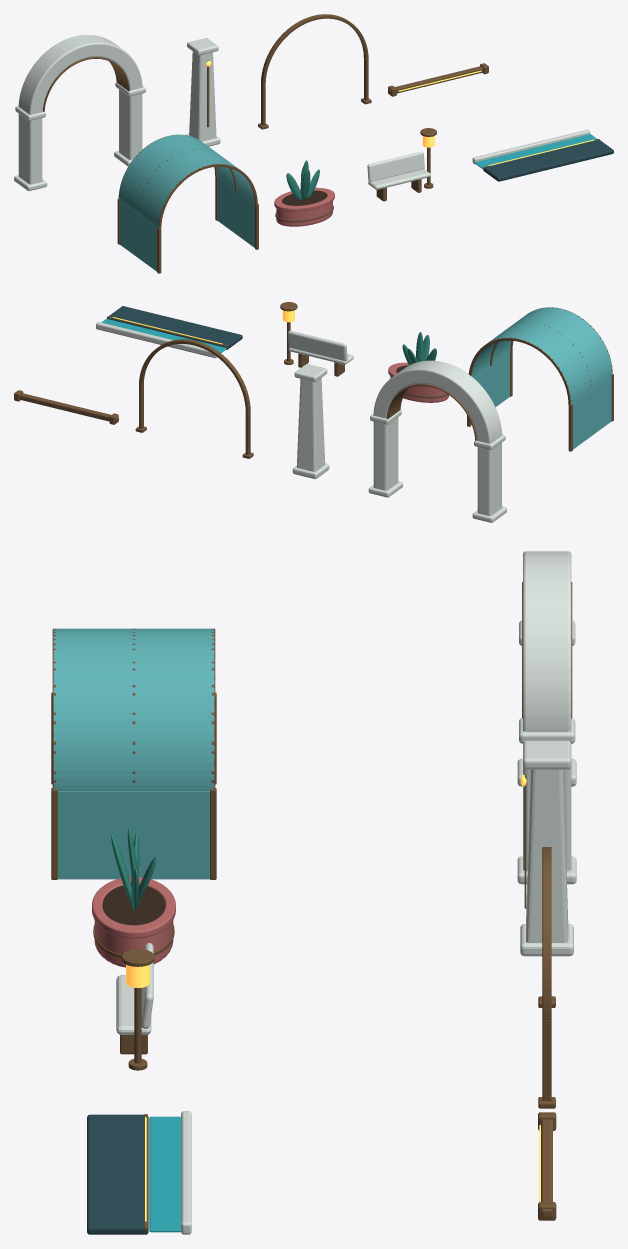
File: arrival_conservatory_hero_kit.draco.glb
3 renders of one model, top to bottom at view 1: azimuth 30°, elevation 25°; view 2: azimuth 150°, elevation 25°; view 3: azimuth 270°, elevation 25°, orthographic. The views are drawn at different scales.
Parts seen in each view (by area): view 1: ALC_Canopy_SeaGlass_A, ALC_Arch_Pearl_A, ALC_GroundWaterTrim_A, ALC_Pier_Pearl_A, ALC_Planter_Coral_A, ALC_BenchLantern_A, ALC_Rib_Bronze_A, ALC_Beam_Bronze_A; view 2: ALC_Canopy_SeaGlass_A, ALC_Arch_Pearl_A, ALC_GroundWaterTrim_A, ALC_Pier_Pearl_A, ALC_BenchLantern_A, ALC_Rib_Bronze_A, ALC_Planter_Coral_A, ALC_Beam_Bronze_A; view 3: ALC_Canopy_SeaGlass_A, ALC_GroundWaterTrim_A, ALC_Arch_Pearl_A, ALC_Pier_Pearl_A, ALC_Planter_Coral_A, ALC_BenchLantern_A, ALC_Rib_Bronze_A, ALC_Beam_Bronze_A.
Boxes of the visible parts, <box> form: ALC_Canopy_SeaGlass_A: <box>117,134,258,273</box>; ALC_Arch_Pearl_A: <box>14,35,145,190</box>; ALC_GroundWaterTrim_A: <box>472,129,613,181</box>; ALC_Pier_Pearl_A: <box>186,38,220,146</box>; ALC_Planter_Coral_A: <box>274,160,334,226</box>; ALC_BenchLantern_A: <box>367,128,436,201</box>; ALC_Rib_Bronze_A: <box>258,14,371,129</box>; ALC_Beam_Bronze_A: <box>388,63,488,96</box>; ALC_Canopy_SeaGlass_A: <box>467,307,613,451</box>; ALC_Arch_Pearl_A: <box>368,360,506,522</box>; ALC_GroundWaterTrim_A: <box>96,306,242,358</box>; ALC_Pier_Pearl_A: <box>292,364,329,479</box>; ALC_BenchLantern_A: <box>280,302,353,376</box>; ALC_Rib_Bronze_A: <box>135,339,253,458</box>; ALC_Planter_Coral_A: <box>388,332,449,402</box>; ALC_Beam_Bronze_A: <box>14,390,118,424</box>; ALC_Canopy_SeaGlass_A: <box>51,628,216,879</box>; ALC_GroundWaterTrim_A: <box>87,1111,191,1234</box>; ALC_Arch_Pearl_A: <box>517,551,576,884</box>; ALC_Pier_Pearl_A: <box>520,740,573,956</box>; ALC_Planter_Coral_A: <box>92,828,175,967</box>; ALC_BenchLantern_A: <box>116,943,154,1070</box>; ALC_Rib_Bronze_A: <box>538,847,555,1108</box>; ALC_Beam_Bronze_A: <box>538,1112,556,1220</box>.
Size of the model in its own units: 16.46 by 4.33 by 7.82.
